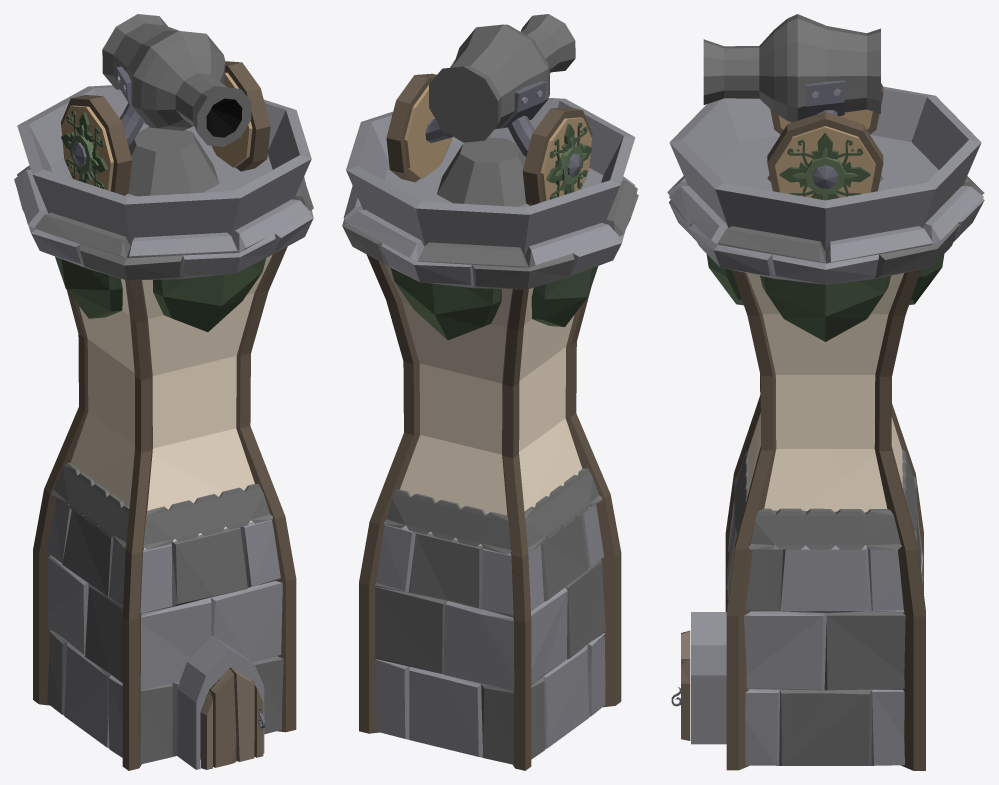
File: _Cannon_tower_LVL_1.fbx
The picture shows the model from 3 angles, left to right: view 1: azimuth 30°, elevation 25°; view 2: azimuth 150°, elevation 25°; view 3: azimuth 270°, elevation 25°; orthographic projection. The views are drawn at different scales.
Visible parts, largest first — view 1: Cannon_tower_LVL_1.001, Cannon_tower_LVL_1; view 2: Cannon_tower_LVL_1.001, Cannon_tower_LVL_1; view 3: Cannon_tower_LVL_1.001, Cannon_tower_LVL_1.
Part boxes in pixels (bbox=[...]): Cannon_tower_LVL_1.001: bbox=[14, 85, 313, 770]; Cannon_tower_LVL_1: bbox=[61, 14, 270, 195]; Cannon_tower_LVL_1.001: bbox=[342, 98, 638, 770]; Cannon_tower_LVL_1: bbox=[386, 14, 592, 205]; Cannon_tower_LVL_1.001: bbox=[667, 86, 984, 770]; Cannon_tower_LVL_1: bbox=[703, 14, 883, 200].
Size of the model in its own units: 604 by 1488 by 603.
